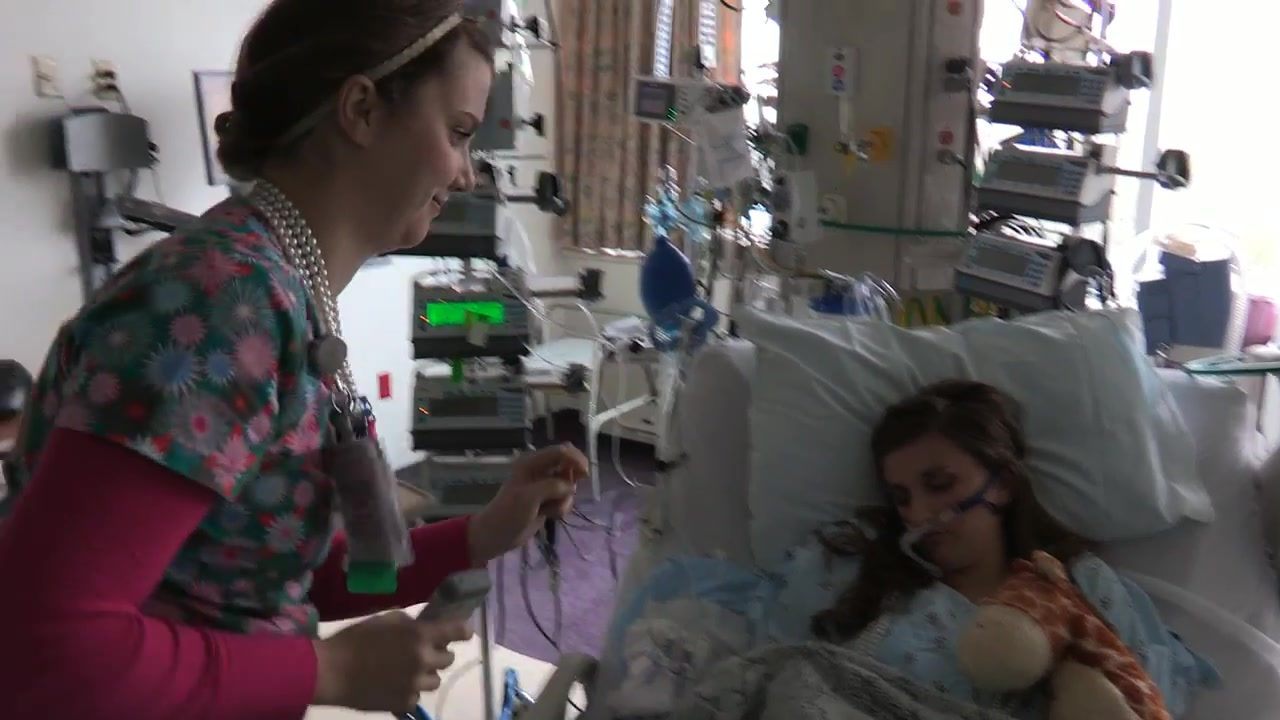bedrail: (525, 652, 601, 720)
breathing_tube: (1101, 564, 1280, 679)
curtain: (554, 1, 676, 256)
hospital_bed: (527, 303, 1280, 720)
patient: (754, 380, 1224, 720)
staff: (1, 1, 590, 720)
syringe_pump: (939, 234, 1094, 310), (964, 150, 1115, 224), (982, 65, 1134, 134), (412, 279, 535, 362), (412, 377, 536, 448), (422, 458, 526, 522)
